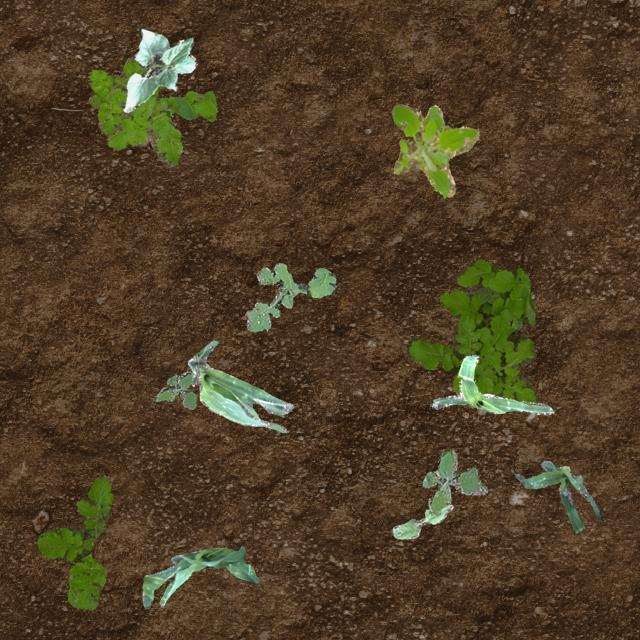crop: (186, 339, 292, 432), (430, 354, 552, 414), (142, 546, 258, 608), (514, 460, 602, 532), (122, 28, 196, 112), (392, 502, 452, 538)
weed: (404, 258, 538, 402), (88, 56, 216, 166), (36, 472, 111, 608), (390, 102, 478, 196), (244, 262, 336, 330), (422, 448, 486, 514), (154, 371, 196, 408)
